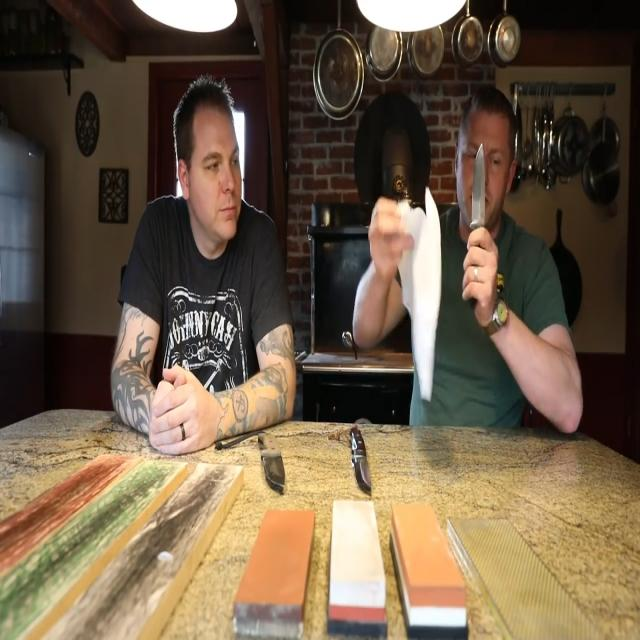knife: (350, 422, 376, 501), (259, 431, 289, 494), (471, 144, 487, 231)
